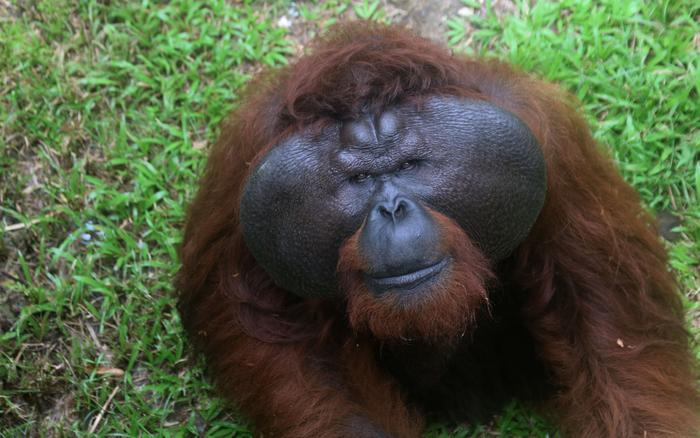Orangutan: (175, 41, 654, 407)
